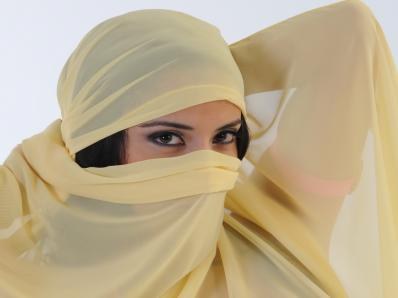OK: (112, 104, 246, 238)
